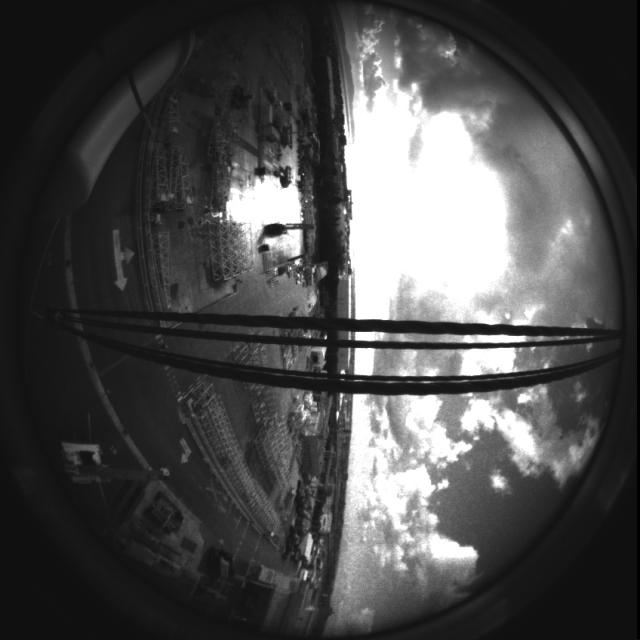rope: (3, 292, 639, 399)
sky: (324, 2, 620, 637)
